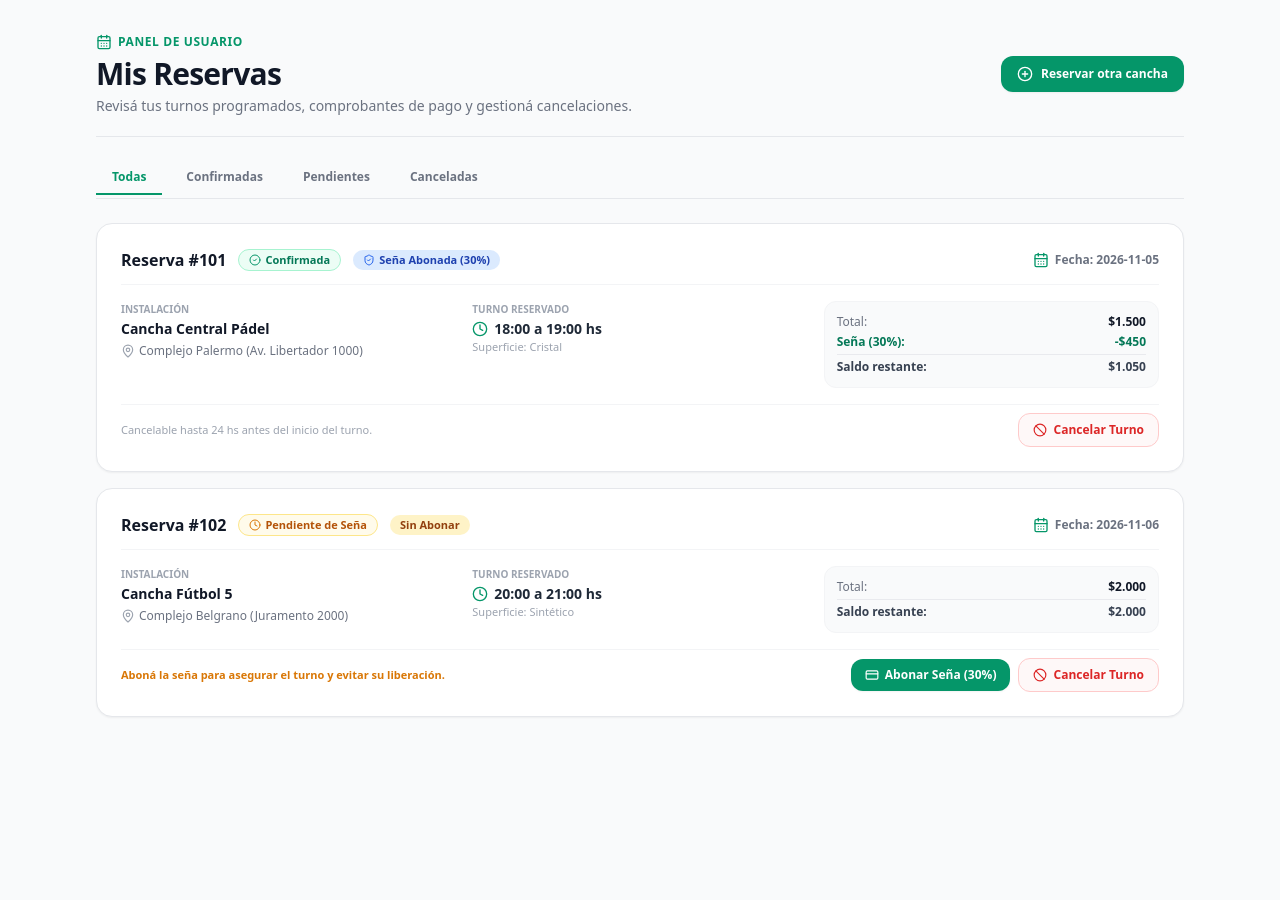
Scenario: ReservationsPage › abre el modal y ejecuta la cancelación exitosa de una reserva
The image size is (1280, 900).
Expected: the text "Reserva #101" is shown, [121,248,226,272]
Clic en Cancelar Turno de la primera reserva
Click the button "Cancelar Turno" below "1.050" at (1089,430), box [1018,413,1159,447]
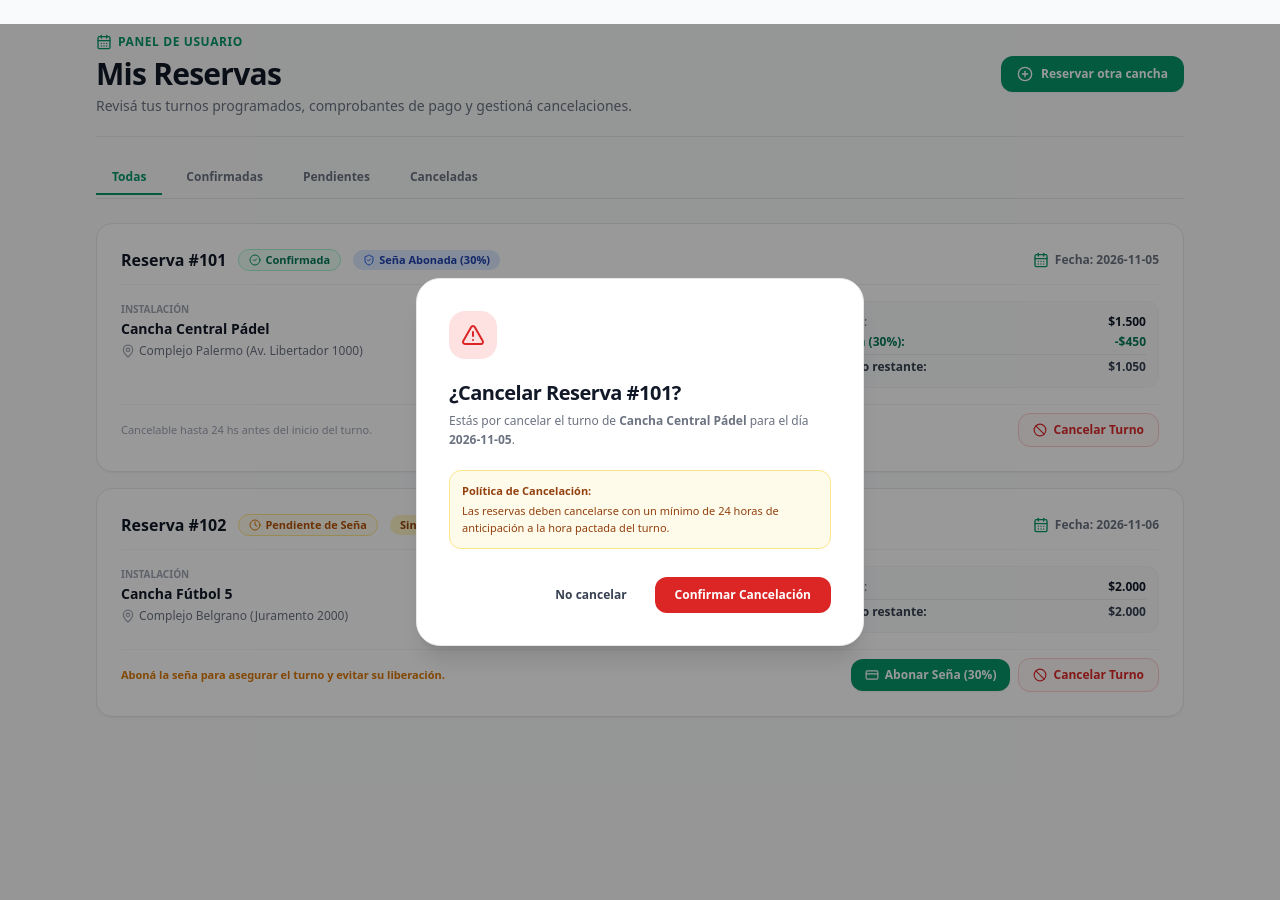
Result: the heading "¿Cancelar Reserva #101?" is shown at [449,379,681,406]
Confirmar en el modal
Click the button "Confirmar Cancelación" at (743,595), box [655,577,831,613]
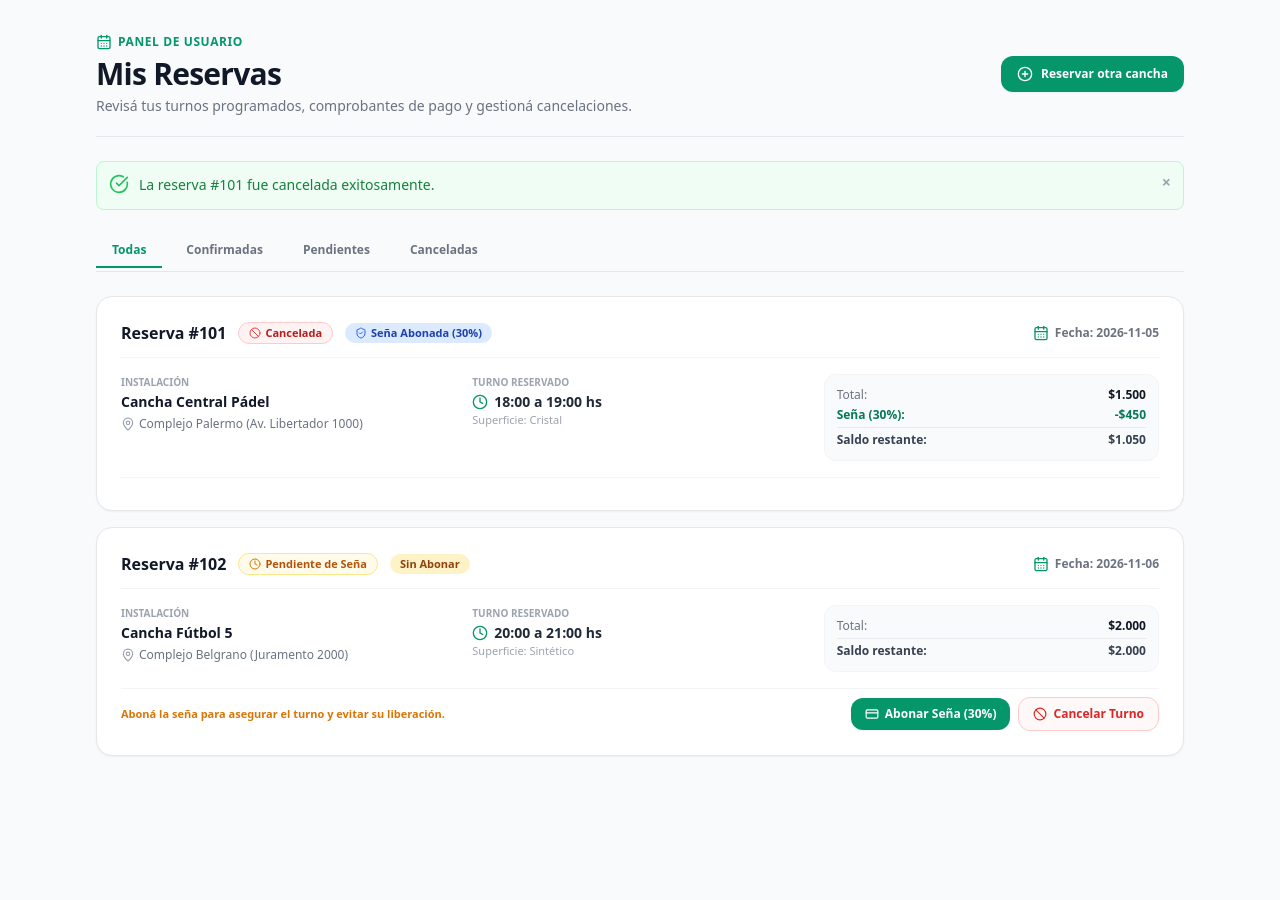
Result: the text "La reserva #101 fue cancelada exitosamente." is shown at [139,175,434,194]
